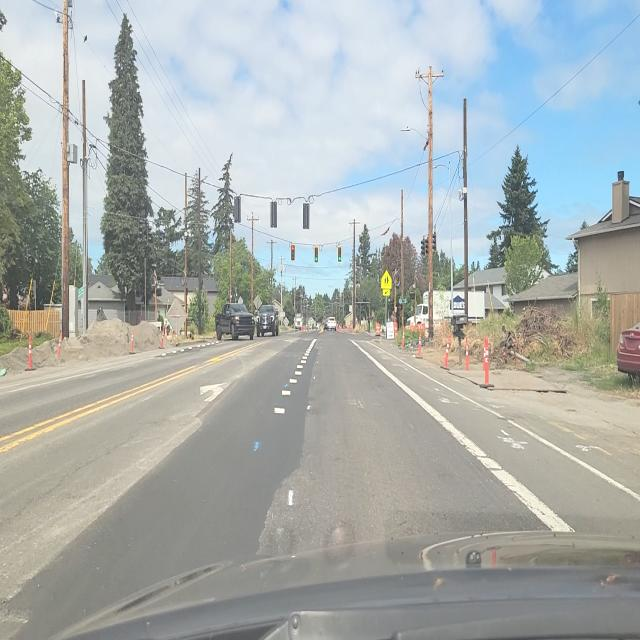car: (616, 316, 640, 384), (215, 303, 256, 342), (255, 305, 280, 338), (324, 316, 336, 332), (294, 314, 303, 332)
crosswalk-sign: (381, 270, 392, 296)
delineator: (482, 337, 490, 386), (443, 336, 450, 369), (28, 335, 34, 369), (464, 338, 470, 371), (57, 331, 63, 360), (417, 329, 422, 358), (401, 324, 406, 348), (160, 325, 165, 348), (130, 331, 134, 354), (172, 328, 176, 344), (394, 323, 398, 339), (213, 330, 218, 340)
